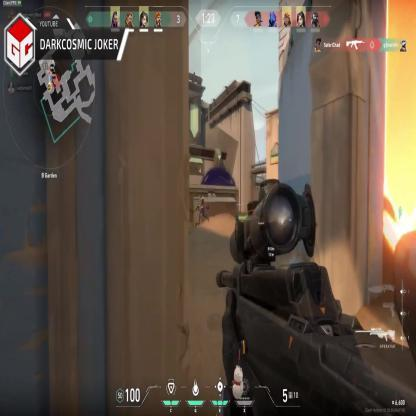enemy: (196, 193, 208, 224)
enemy_head: (199, 194, 202, 199)
